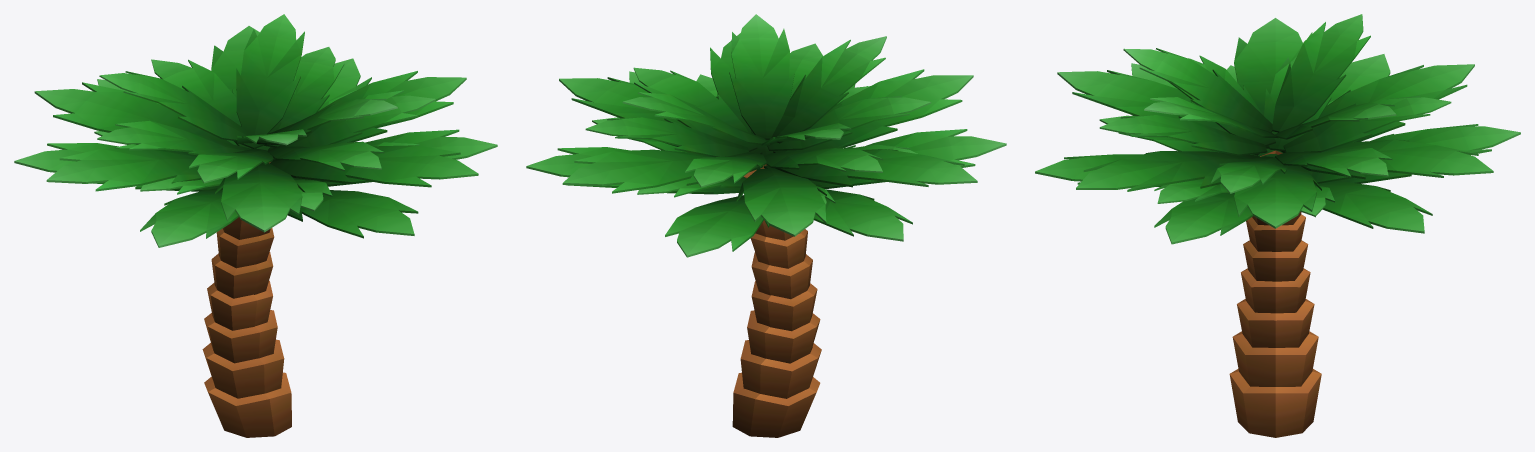
Rendered from petit_palmier.fbx.
3 renders of one model, left to right at view 1: azimuth 30°, elevation 25°; view 2: azimuth 150°, elevation 25°; view 3: azimuth 270°, elevation 25°, orthographic. The views are drawn at different scales.
Visible parts, largest first — view 1: Palmera.003; view 2: Palmera.003; view 3: Palmera.003.
Boxes of the visible parts, left/top/right/bottom form: Palmera.003: left=14, top=14, right=497, bottom=437; Palmera.003: left=526, top=14, right=1006, bottom=437; Palmera.003: left=1035, top=14, right=1520, bottom=437.
Bounding box in the file's own units: 435 × 341 × 427.
